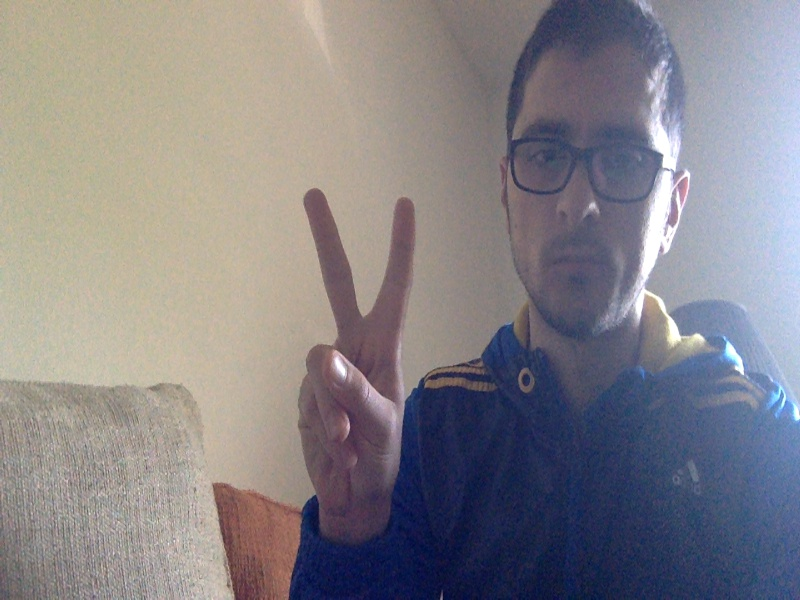2-hand: (295, 187, 418, 510)
